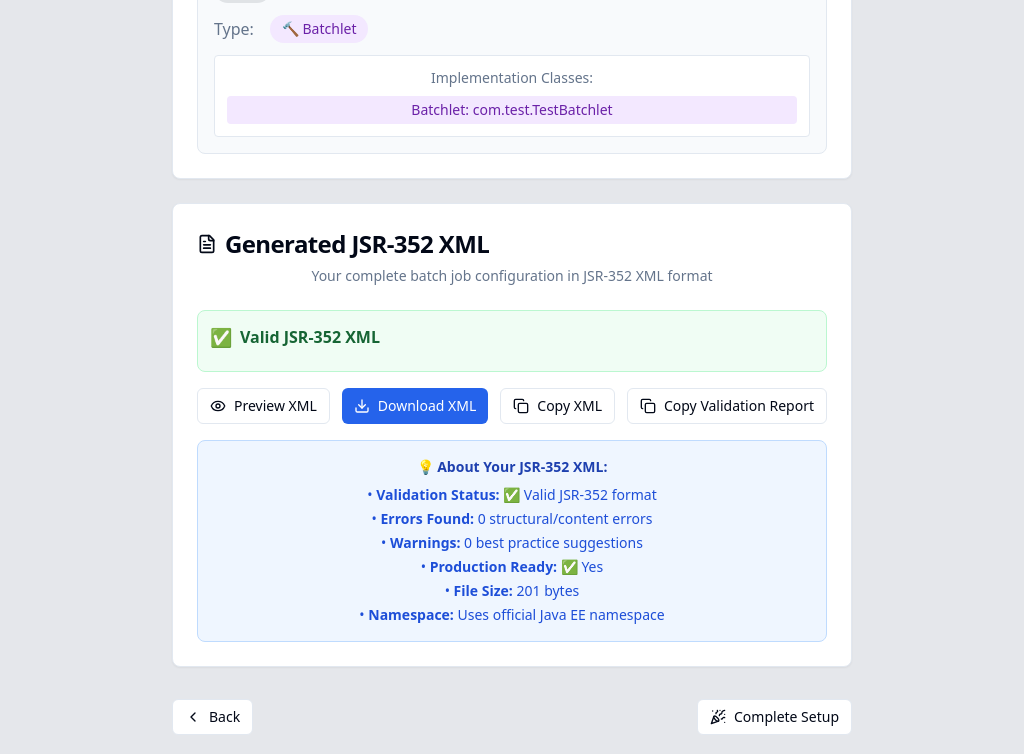
Test: SummaryScreen › should toggle XML preview when button clicked
(page scrolled)
Click the button "Preview XML".
click(263, 406)  # box [197,388,330,424]
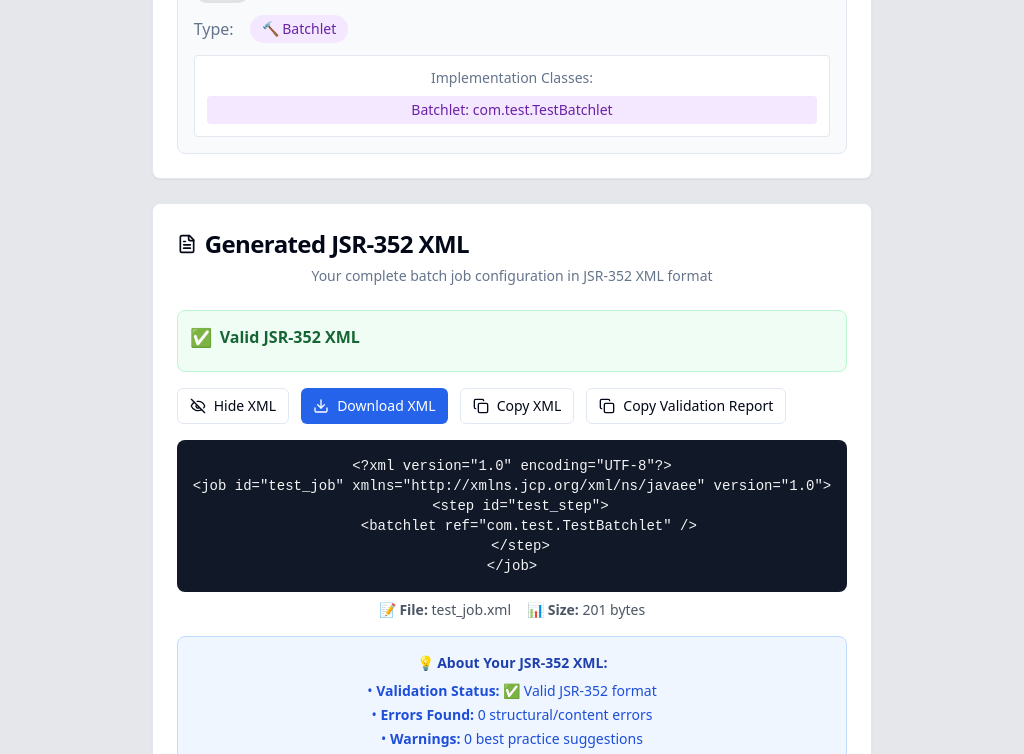
Result: the button "Hide XML" is shown at [177,388,289,424]
